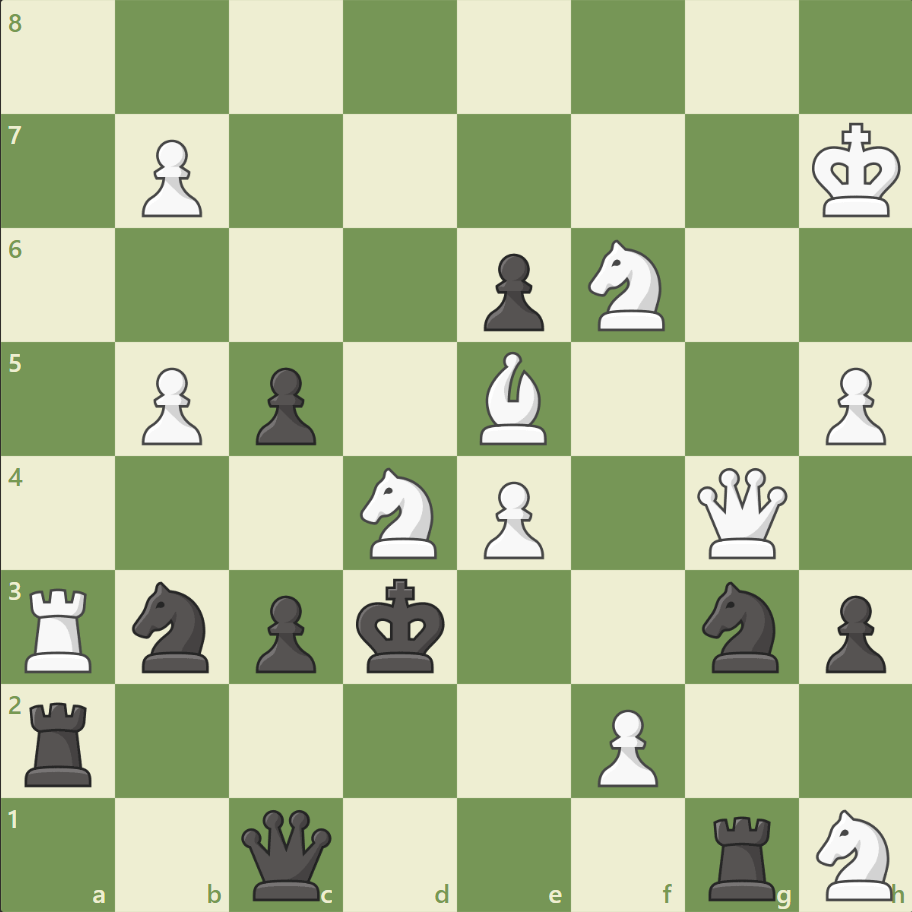B: (471, 347, 555, 449)
K: (806, 117, 906, 225)
N: (351, 461, 449, 564), (579, 234, 676, 337), (806, 802, 903, 904)
P: (133, 132, 208, 223), (133, 359, 208, 450), (474, 473, 549, 564), (815, 359, 889, 450), (588, 700, 662, 791)
Q: (691, 463, 790, 562)
R: (19, 579, 102, 676)
k: (351, 571, 451, 679)
n: (124, 575, 222, 677), (692, 575, 789, 677)
p: (474, 246, 549, 337), (247, 359, 322, 450), (247, 586, 322, 677), (815, 586, 889, 677)
q: (237, 804, 336, 903)
r: (700, 806, 783, 904), (19, 693, 102, 790)
